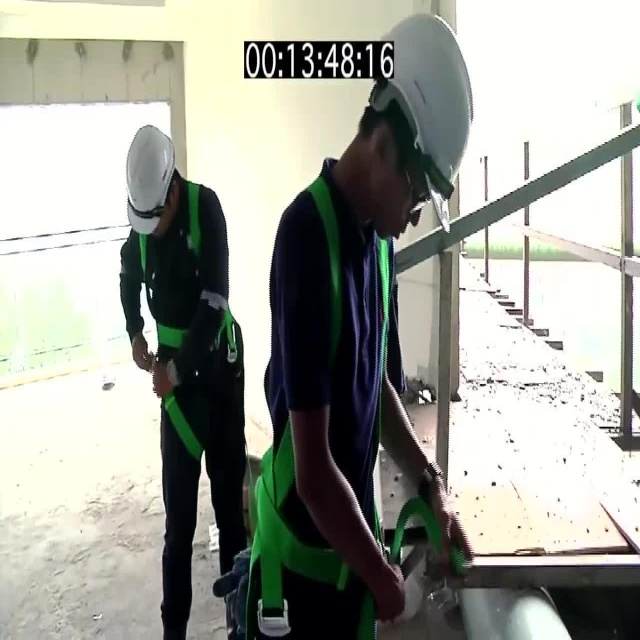Arnes_seguridad: (260, 176, 395, 621), (138, 184, 240, 461)
